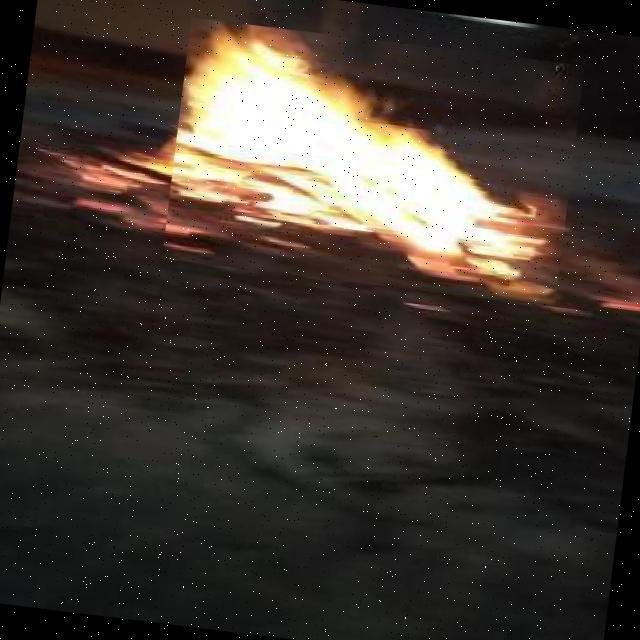fire: (161, 17, 584, 306)
